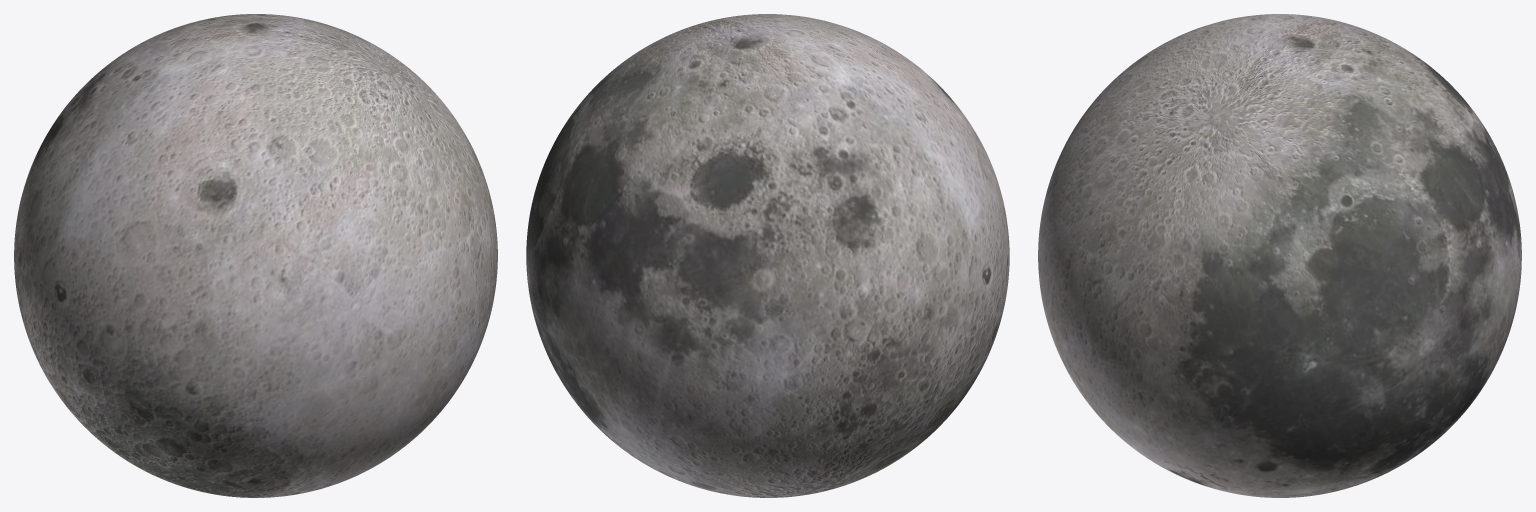
The model's file is moon.glb.
The picture shows the model from 3 angles, left to right: view 1: azimuth 30°, elevation 25°; view 2: azimuth 150°, elevation 25°; view 3: azimuth 270°, elevation 25°; orthographic projection.
Parts seen in each view (by area): view 1: Sphere; view 2: Sphere; view 3: Sphere.
Boxes of the visible parts, box(x1,y1,x2,y2) form: Sphere: box(14, 14, 497, 497); Sphere: box(526, 14, 1009, 497); Sphere: box(1038, 14, 1521, 497).
Size of the model in its own units: 2 by 2 by 2.
Materials: 1 (1 with a texture image).
